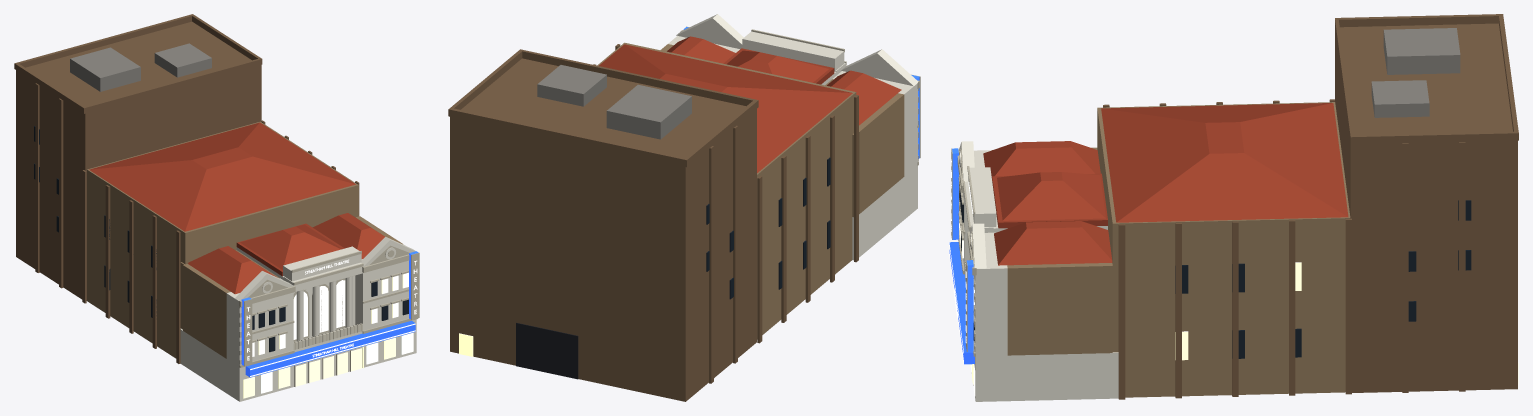
File: theatre.glb
3 renders of one model, left to right at view 1: azimuth 30°, elevation 25°; view 2: azimuth 150°, elevation 25°; view 3: azimuth 270°, elevation 25°, orthographic. The views are drawn at different scales.
Visible parts, largest first — view 1: Brick_Dark, Pantile, Brick_Buff, Faience, Faience_Shade, Concrete, Emit_Window, Canopy_Blue, Door_Lit, Glass_Dark, Emit_Window_Cool, Bulb (+3 smaller); view 2: Brick_Dark, Brick_Buff, Pantile, Faience, Concrete, Trim_Dark, Glass_Dark, Faience_Shade; view 3: Brick_Dark, Brick_Buff, Pantile, Faience, Concrete, Glass_Dark, Faience_Shade, Sign_Blue, Canopy_Blue, Door_Lit.
Boxes of the visible parts, x1=… form: Brick_Dark: x1=14, y1=14, x2=359, y2=363; Pantile: x1=89, y1=122, x2=384, y2=294; Brick_Buff: x1=87, y1=121, x2=402, y2=358; Faience: x1=180, y1=237, x2=416, y2=401; Faience_Shade: x1=239, y1=245, x2=419, y2=386; Concrete: x1=70, y1=43, x2=211, y2=91; Emit_Window: x1=252, y1=272, x2=408, y2=356; Canopy_Blue: x1=245, y1=320, x2=415, y2=377; Door_Lit: x1=243, y1=337, x2=395, y2=398; Glass_Dark: x1=34, y1=126, x2=408, y2=352; Emit_Window_Cool: x1=261, y1=332, x2=413, y2=393; Bulb: x1=250, y1=323, x2=415, y2=376; Brick_Dark: x1=448, y1=44, x2=858, y2=401; Brick_Buff: x1=597, y1=42, x2=904, y2=339; Pantile: x1=599, y1=36, x2=901, y2=172; Faience: x1=668, y1=14, x2=917, y2=260; Concrete: x1=537, y1=65, x2=691, y2=139; Trim_Dark: x1=516, y1=322, x2=578, y2=379; Glass_Dark: x1=706, y1=157, x2=830, y2=299; Faience_Shade: x1=680, y1=26, x2=920, y2=165; Brick_Dark: x1=1103, y1=14, x2=1518, y2=399; Brick_Buff: x1=992, y1=102, x2=1350, y2=397; Pantile: x1=983, y1=103, x2=1348, y2=265; Faience: x1=959, y1=141, x2=1118, y2=401; Concrete: x1=1371, y1=28, x2=1460, y2=117; Glass_Dark: x1=959, y1=184, x2=1471, y2=358; Faience_Shade: x1=951, y1=148, x2=976, y2=356; Sign_Blue: x1=952, y1=148, x2=973, y2=351; Canopy_Blue: x1=949, y1=242, x2=974, y2=364; Door_Lit: x1=969, y1=262, x2=1518, y2=384.
Size of the model in its own units: 34.09 by 32.2 by 62.22.
